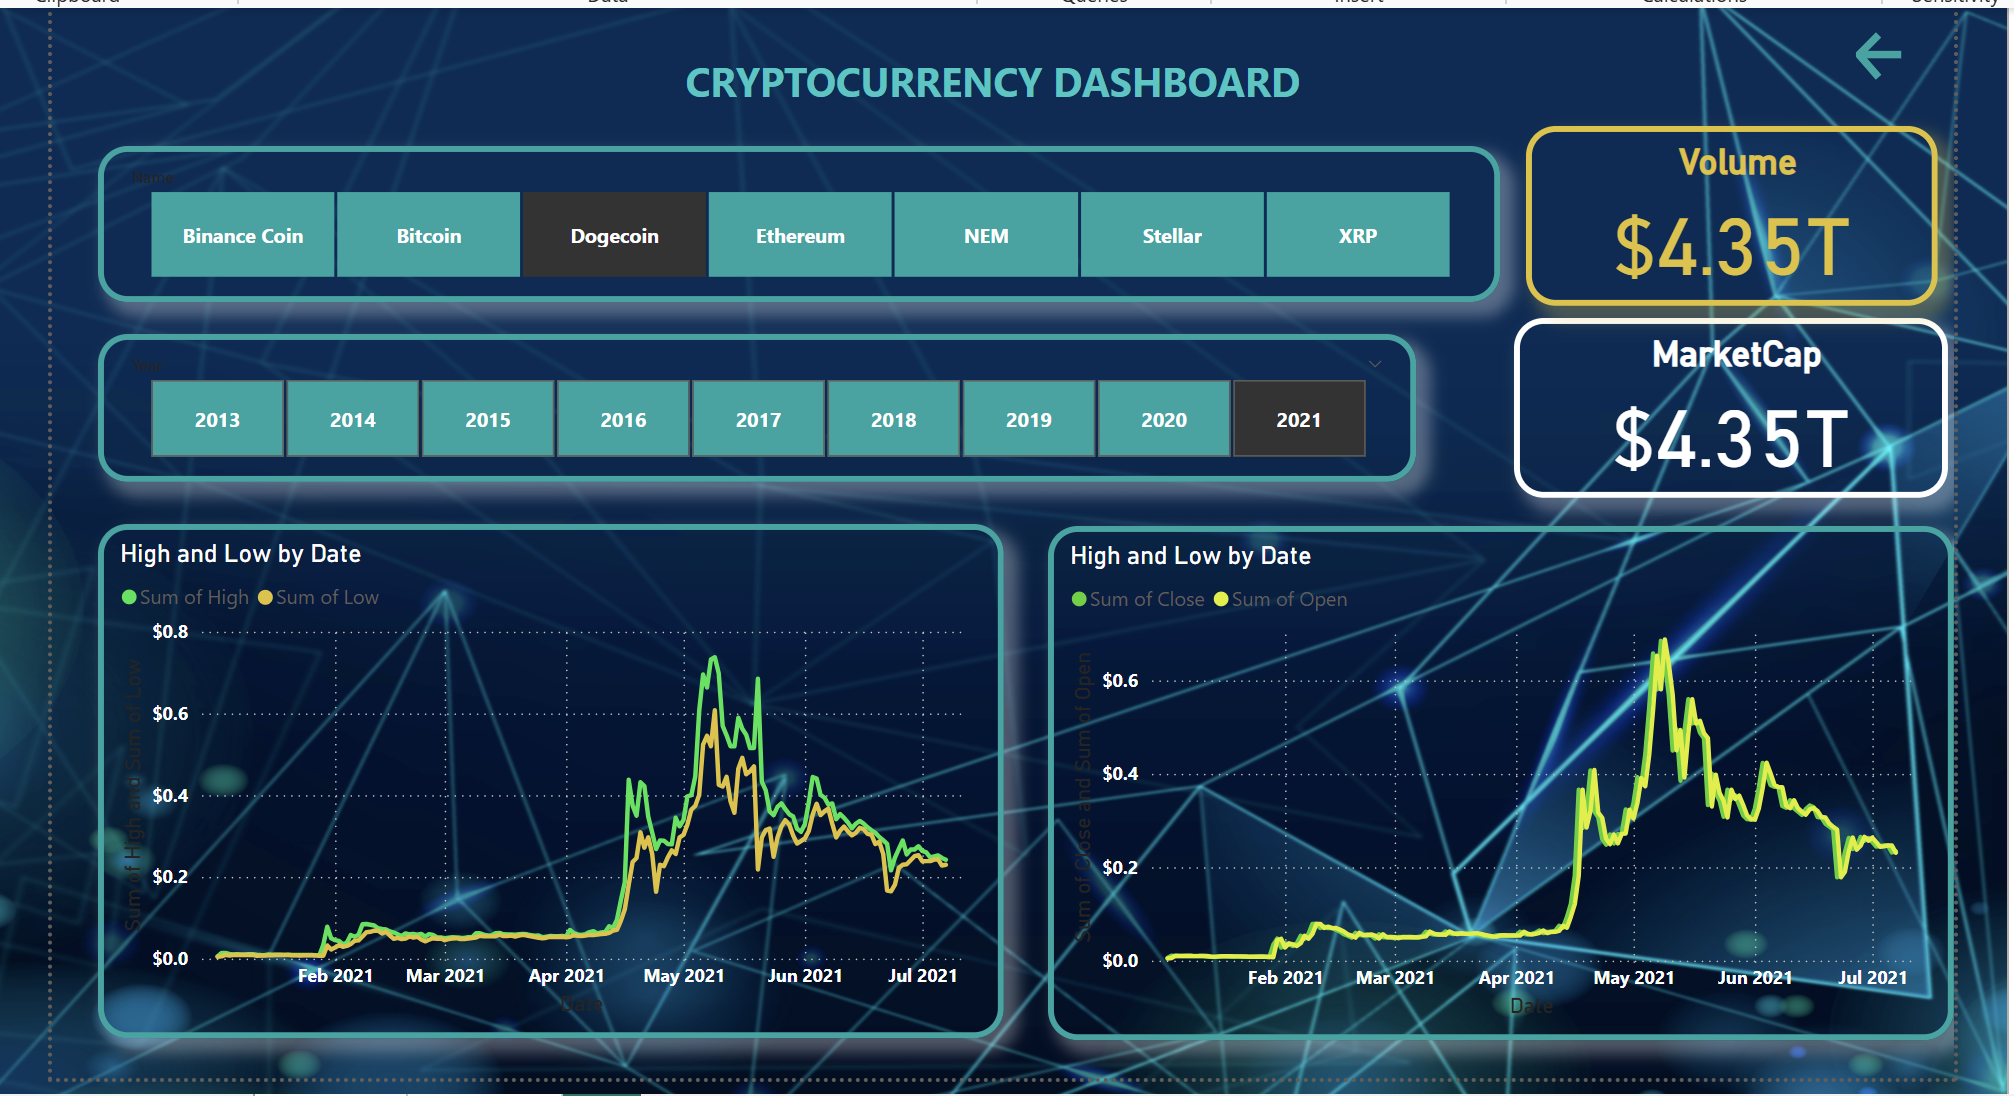

This screenshot's page, from the dashboard's own definition file:
{"tool":"powerbi","page":{"name":"Page 2","canvas":[1280,720],"ordinal":1},"visuals":[{"type":"slicer","fields":{"Values":["Crypto_Project.Name"]},"box":[31,92.9,943.4,105],"z":0},{"type":"lineChart","title":"High and Low by Date","fields":{"Y":["Sum(Crypto_Project.High)","Sum(Crypto_Project.Low)"],"Category":["Crypto_Project.Date"]},"box":[31,347.2,609.6,345.9],"z":1000},{"type":"slicer","fields":{"Values":["Crypto_Project.Year"]},"box":[31,219.4,886.9,99.6],"z":2000},{"type":"textbox","box":[421.2,25.6,438.7,53.8],"z":4000},{"type":"card","title":"MarketCap","fields":{"Values":["Sum(Crypto_Project.Marketcap)"]},"box":[983.8,208.6,292,121.1],"z":5000},{"type":"card","title":"Volume","fields":{"Values":["Sum(Crypto_Project.Marketcap)"]},"box":[991.9,79.4,277.2,121.1],"z":6000},{"type":"lineChart","title":"High and Low by Date","fields":{"Category":["Crypto_Project.Date"],"Y":["Sum(Crypto_Project.Close)","Sum(Crypto_Project.Open)"]},"box":[670.2,348.6,609.6,345.9],"z":6001},{"type":"actionButton","box":[1209.9,12.1,65.9,40.4],"z":6003}]}

Visuals, with their boxes on the page's 1280x720 design canvas (x1, y1, x2, y2). These are canvas units, not pixel positions in the 2014x1096 screenshot, which may show the page scaled, cropped or inside an application window:
slicer - Crypto_Project.Name: <bbox>31, 93, 974, 198</bbox>
"High and Low by Date" lineChart: <bbox>31, 347, 641, 693</bbox>
slicer - Crypto_Project.Year: <bbox>31, 219, 918, 319</bbox>
textbox: <bbox>421, 26, 860, 79</bbox>
"MarketCap" card: <bbox>984, 209, 1276, 330</bbox>
"Volume" card: <bbox>992, 79, 1269, 200</bbox>
"High and Low by Date" lineChart: <bbox>670, 349, 1280, 694</bbox>
actionButton: <bbox>1210, 12, 1276, 52</bbox>
